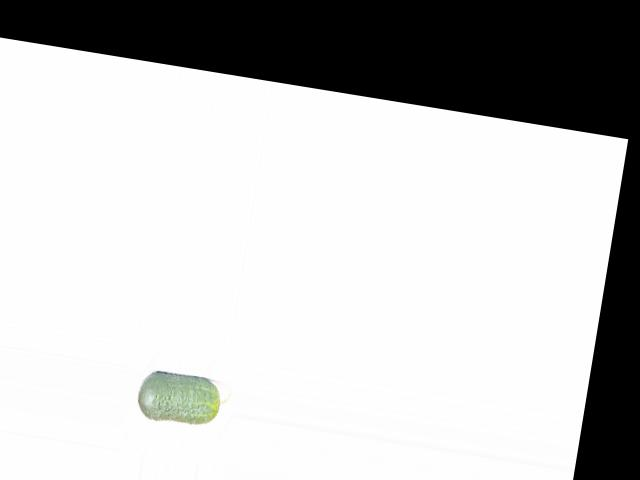cucumber: (135, 368, 233, 430)
